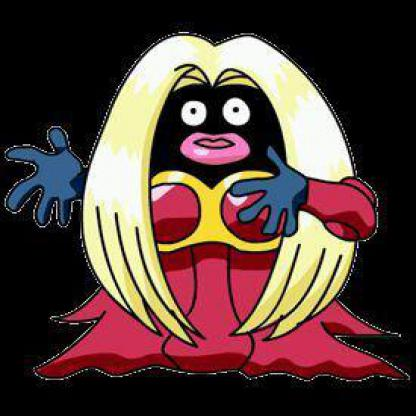Jynx: (28, 1, 416, 416)
